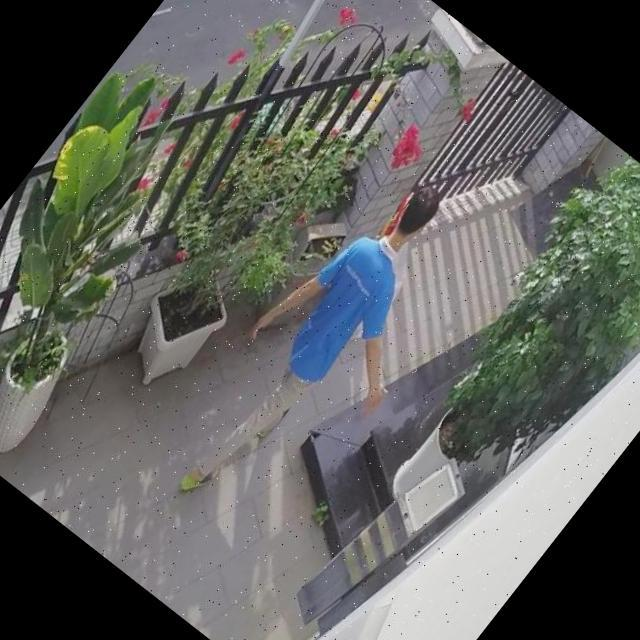person: (149, 153, 506, 553)
